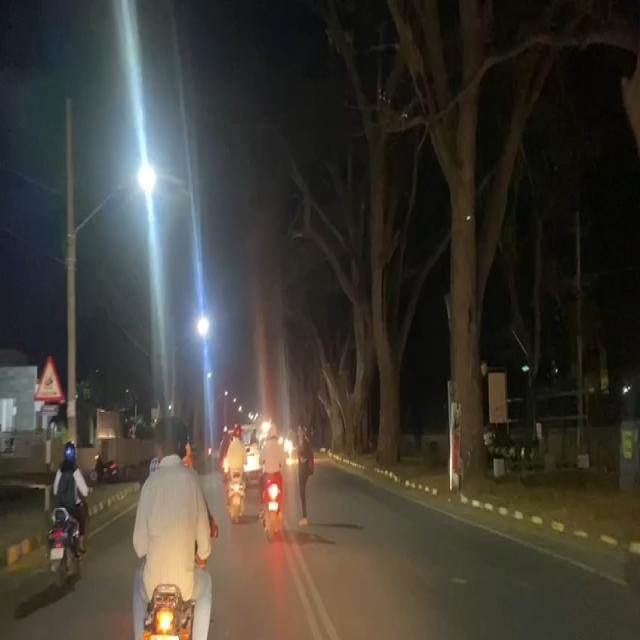bien_nguy_hiem: (32, 351, 64, 407)
